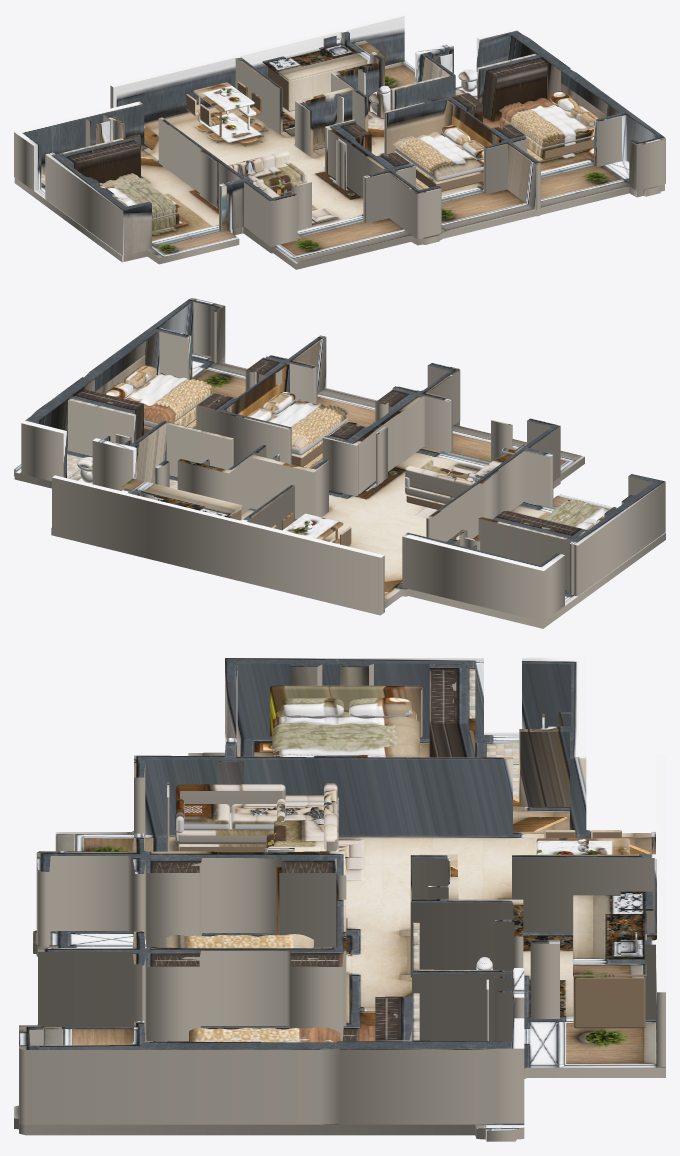
The model's file is p8-08-u05-0112-image-model.glb.
The picture shows the model from 3 angles, top to bottom: view 1: azimuth 30°, elevation 25°; view 2: azimuth 150°, elevation 25°; view 3: azimuth 270°, elevation 25°; orthographic projection. The views are drawn at different scales.
Visible parts, largest first — view 1: Partition walls, Apartment floor, Stone worktop, Draped bed linen, Kitchen cabinets, Draped bed linen.002, Marble dining top, Draped bed linen.004, Walnut upholstered base, Walnut upholstered base.001, Sofa back, Piped mattress (+8 smaller); view 2: Partition walls, Apartment floor, Stone worktop, Draped bed linen, Draped bed linen.002, Sofa back, Marble dining top, Draped bed linen.001, Draped bed linen.004, Draped bed linen.003, Tailored pillow; view 3: Partition walls, Apartment floor, Stone worktop, Draped bed linen.004, Kitchen cabinets, Upholstered headboard.002, Sofa back.001, Draped bed linen.001, Draped bed linen.005, Draped bed linen.003, Marble dining top, Upholstered sofa frame.001 (+7 smaller).
Part boxes in pixels (box(x1,y1,x2,y2)): Partition walls: box(14, 14, 665, 255); Apartment floor: box(14, 60, 664, 269); Stone worktop: box(273, 39, 385, 80); Draped bed linen: box(499, 98, 590, 142); Kitchen cabinets: box(268, 57, 384, 111); Draped bed linen.002: box(393, 132, 481, 175); Marble dining top: box(193, 82, 254, 112); Draped bed linen.004: box(99, 174, 180, 214); Walnut upholstered base: box(500, 117, 593, 159); Walnut upholstered base.001: box(394, 151, 483, 191); Sofa back: box(228, 151, 289, 175); Piped mattress: box(501, 99, 593, 148); Partition walls: box(21, 298, 665, 621); Apartment floor: box(14, 352, 665, 628); Stone worktop: box(117, 478, 242, 516); Draped bed linen: box(126, 373, 213, 422); Draped bed linen.002: box(269, 399, 350, 449); Sofa back: box(405, 466, 475, 497); Marble dining top: box(282, 513, 343, 539); Draped bed linen.001: box(144, 379, 208, 422); Draped bed linen.004: box(543, 500, 608, 528); Draped bed linen.003: box(291, 405, 345, 447); Tailored pillow: box(123, 365, 156, 388); Partition walls: box(19, 657, 665, 1124); Apartment floor: box(14, 732, 665, 1141); Stone worktop: box(573, 895, 646, 976); Draped bed linen.004: box(273, 716, 419, 757); Kitchen cabinets: box(573, 976, 645, 1028); Upholstered headboard.002: box(270, 685, 422, 738); Sofa back.001: box(175, 784, 285, 812); Draped bed linen.001: box(189, 1027, 340, 1042); Draped bed linen.005: box(272, 733, 419, 751); Draped bed linen.003: box(166, 934, 313, 948); Marble dining top: box(536, 838, 629, 854); Upholstered sofa frame.001: box(175, 812, 269, 843).
Bounding box in the file's own units: 13.02 × 1.3 × 9.
Materials: 14 (3 with a texture image).
